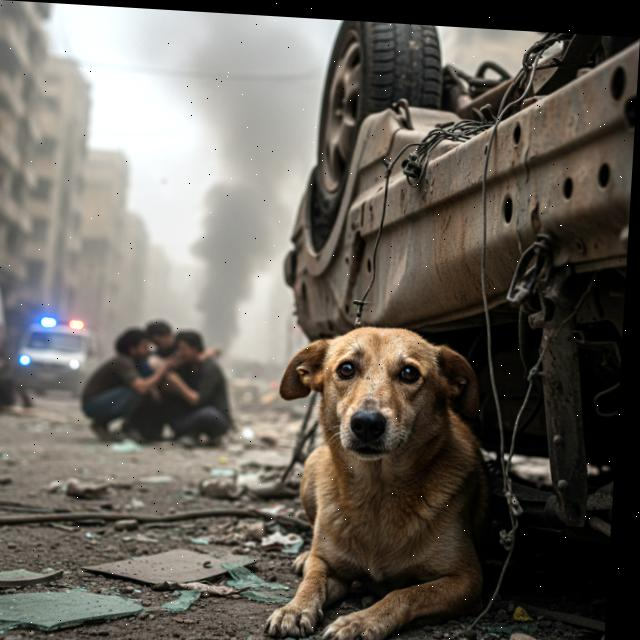civilian: (73, 323, 160, 448), (163, 322, 241, 454), (135, 319, 194, 449)
dog: (232, 311, 525, 640)
